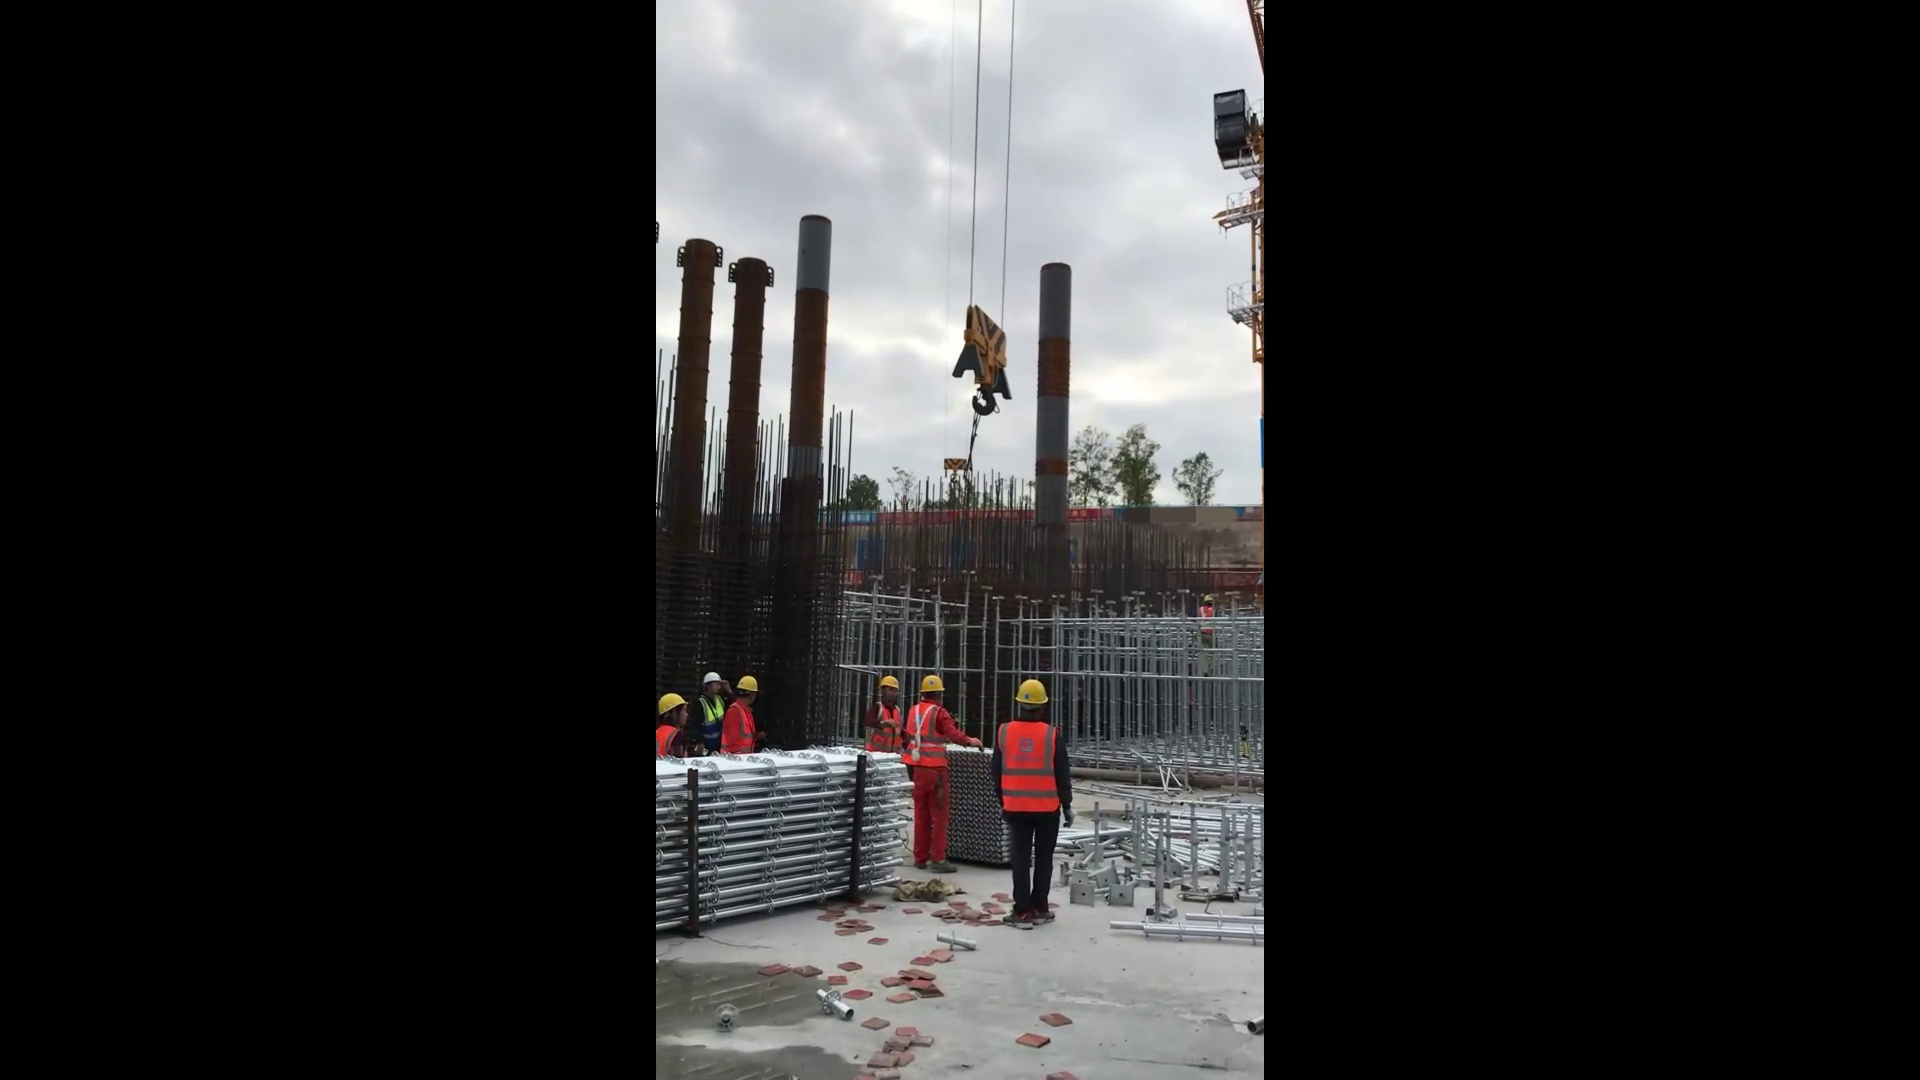helmet: (1014, 677, 1050, 708), (658, 690, 688, 715), (920, 675, 947, 695), (737, 675, 760, 694), (878, 676, 902, 691), (702, 671, 723, 686)
hook: (951, 298, 1018, 433), (942, 455, 970, 478)
person: (993, 678, 1078, 930), (907, 673, 988, 873), (722, 673, 765, 758), (864, 675, 906, 755), (694, 669, 726, 756), (658, 689, 693, 762), (1198, 594, 1221, 676)
scaffold: (654, 746, 903, 949)
vest: (999, 719, 1064, 820), (910, 699, 961, 774), (729, 702, 760, 754), (872, 707, 903, 753), (700, 695, 726, 738), (655, 725, 682, 759)
